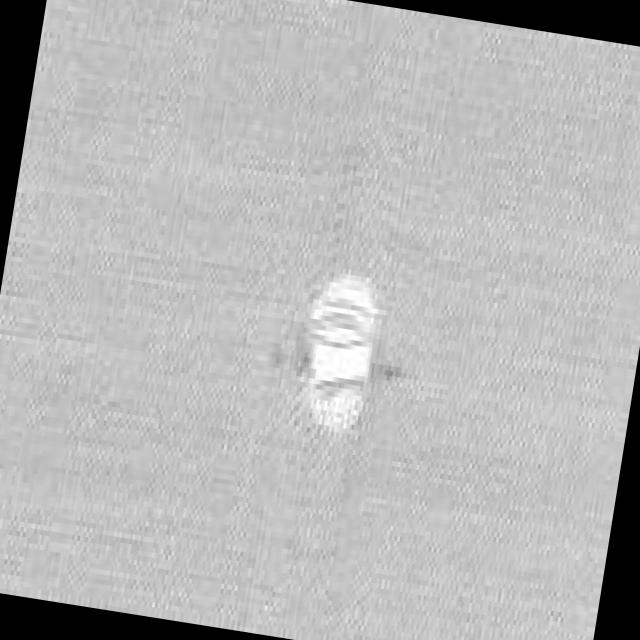cut: (290, 264, 389, 442)
